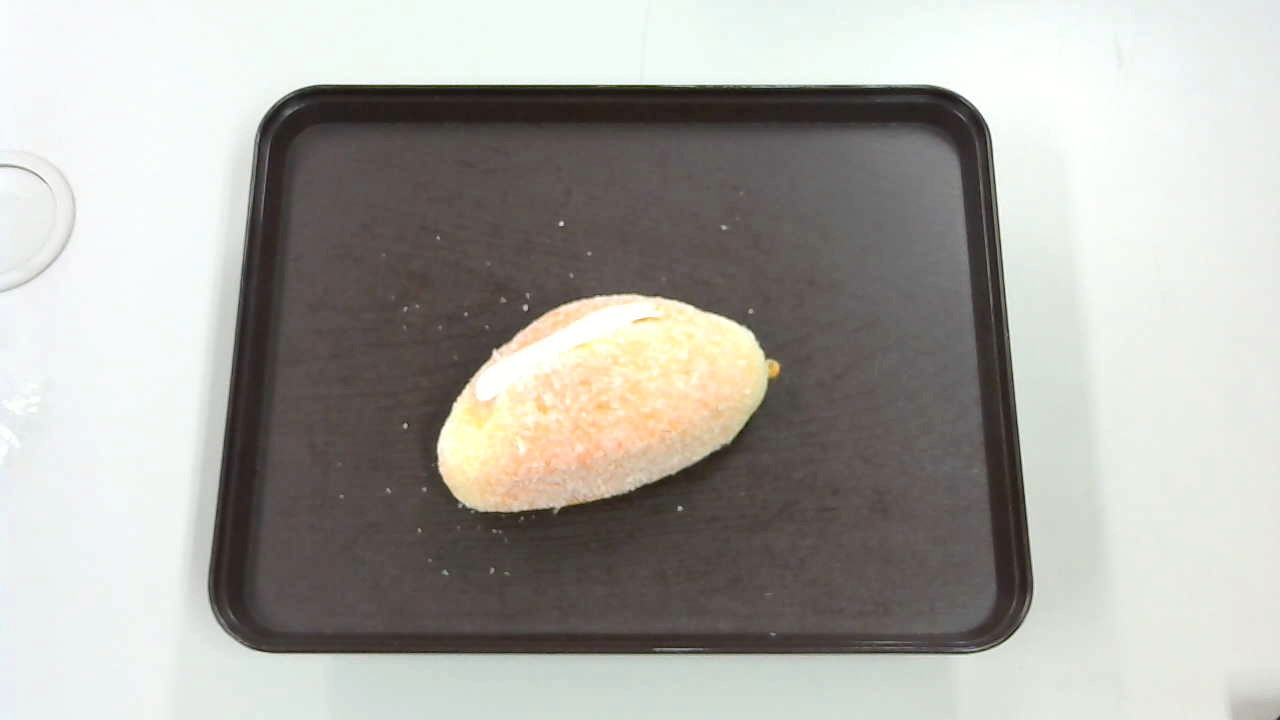coconut: (436, 293, 781, 513)
